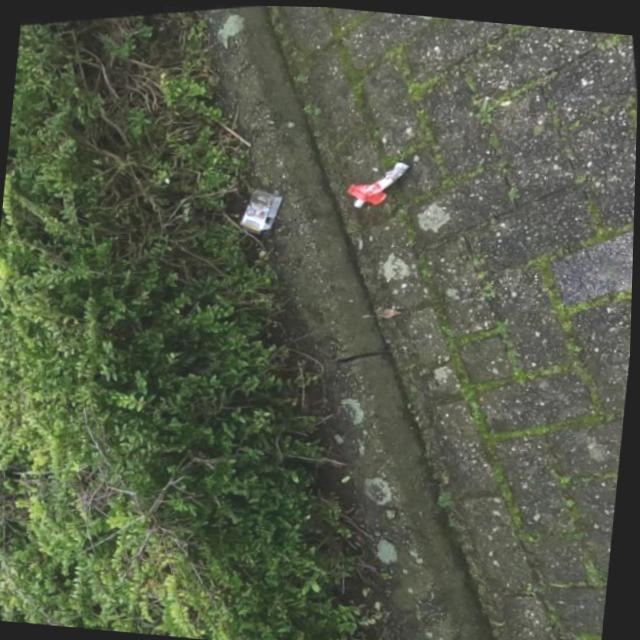Paper: (238, 184, 286, 238)
Plastic: (344, 155, 411, 212)
